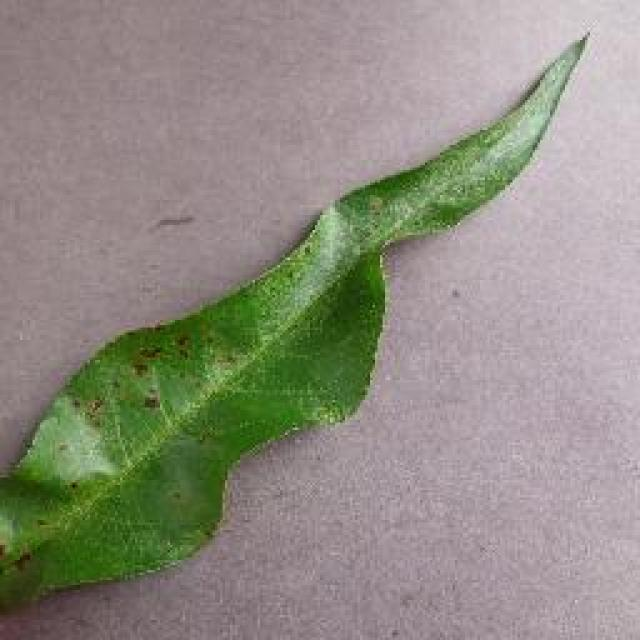Peach_Bacterial_Spot: (91, 262, 302, 480)
